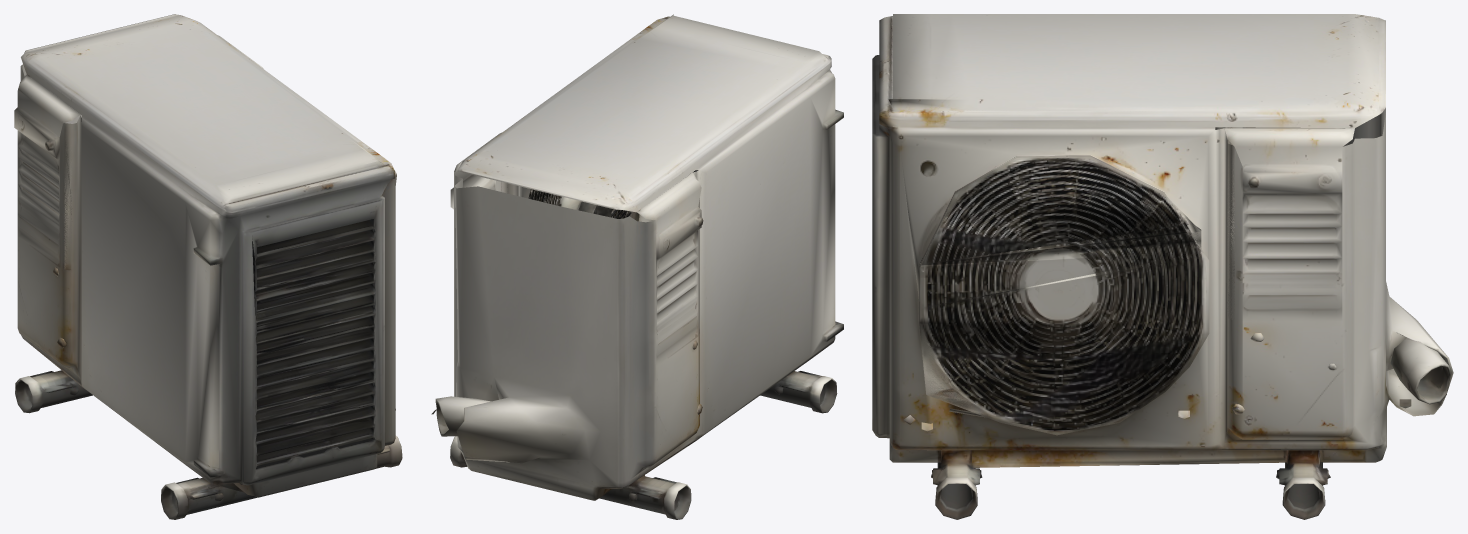
File: ac_unit_01.fbx
3 renders of one model, left to right at view 1: azimuth 30°, elevation 25°; view 2: azimuth 150°, elevation 25°; view 3: azimuth 270°, elevation 25°, orthographic. The views are drawn at different scales.
Visible parts, largest first — view 1: tripo_node_42a844cd; view 2: tripo_node_42a844cd; view 3: tripo_node_42a844cd.
Part boxes in pixels (box(x1,y1,x2,y2)): tripo_node_42a844cd: box(14, 14, 402, 519); tripo_node_42a844cd: box(431, 14, 843, 519); tripo_node_42a844cd: box(872, 14, 1453, 519).
Size of the model in its own units: 0.5264 by 0.7476 by 0.9922.
1 material, 1 textured.
